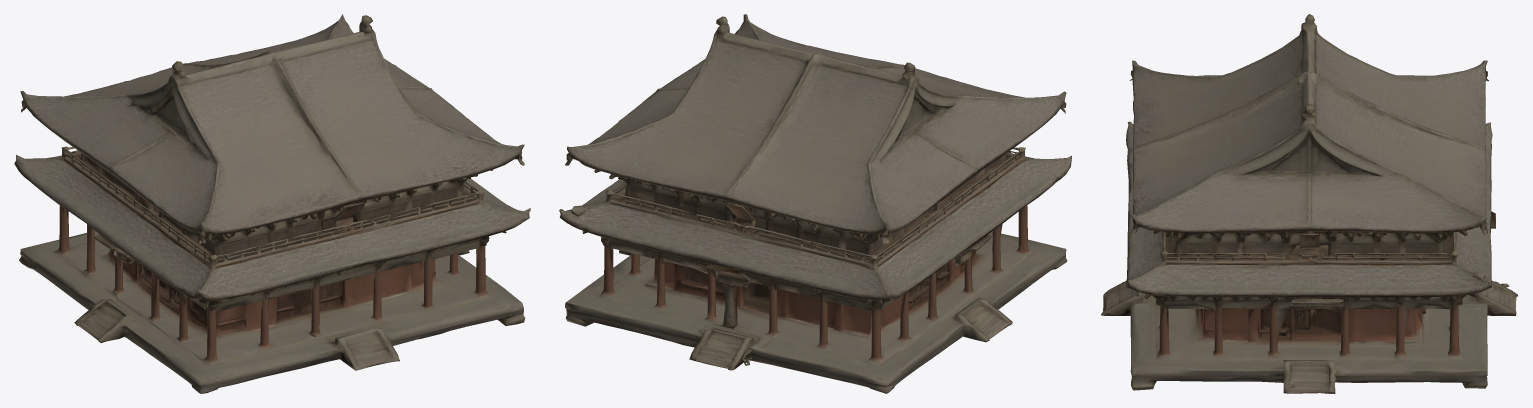
File: building-shanhuasi.glb
3 views of the same model, side by side, from view 1: azimuth 30°, elevation 25°; view 2: azimuth 150°, elevation 25°; view 3: azimuth 270°, elevation 25° (orthographic).
Parts seen in each view (by area): view 1: node_7947a9bf-5f8a-4d43-9bd5-0f32749ab234; view 2: node_7947a9bf-5f8a-4d43-9bd5-0f32749ab234; view 3: node_7947a9bf-5f8a-4d43-9bd5-0f32749ab234.
Boxes of the visible parts, left/top/right/bottom form: node_7947a9bf-5f8a-4d43-9bd5-0f32749ab234: left=14, top=14, right=530, bottom=393; node_7947a9bf-5f8a-4d43-9bd5-0f32749ab234: left=559, top=14, right=1071, bottom=393; node_7947a9bf-5f8a-4d43-9bd5-0f32749ab234: left=1101, top=14, right=1517, bottom=393.
Bounding box in the file's own units: 1 × 0.6733 × 0.9955.
Materials: 1 (1 with a texture image).
